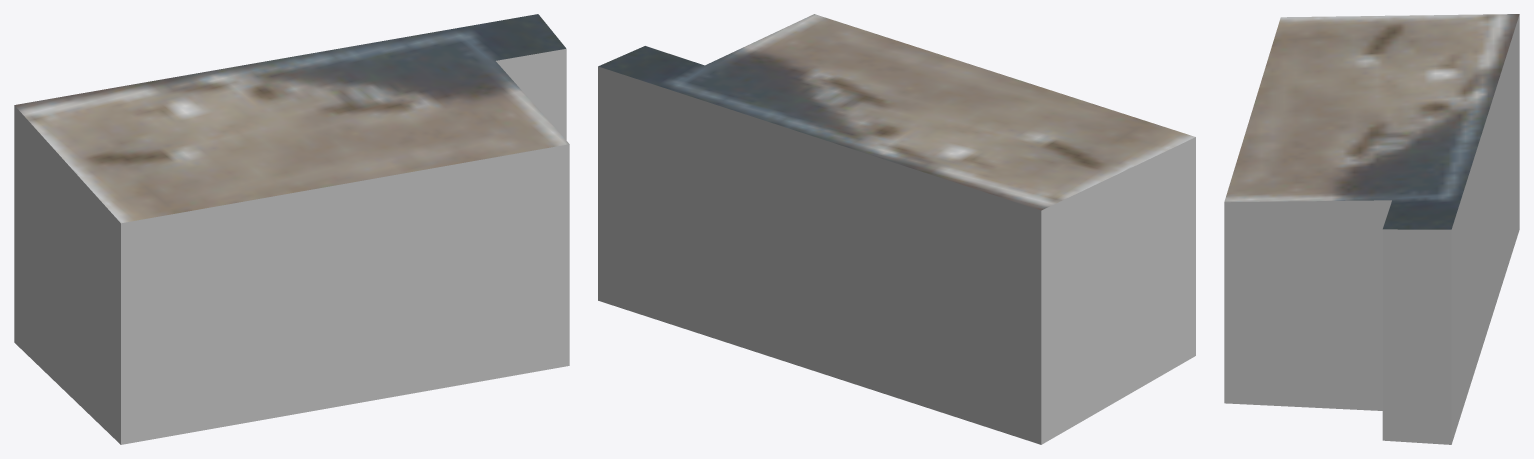
Rendered from DEBW_0010007Tx4F.gltf.
The picture shows the model from 3 angles, left to right: view 1: azimuth 30°, elevation 25°; view 2: azimuth 150°, elevation 25°; view 3: azimuth 270°, elevation 25°; orthographic projection. The views are drawn at different scales.
Parts seen in each view (by area): view 1: Z_UP; view 2: Z_UP; view 3: Z_UP.
Part boxes in pixels (left/top/right/bottom): Z_UP: left=14, top=14, right=569, bottom=444; Z_UP: left=598, top=14, right=1195, bottom=444; Z_UP: left=1224, top=14, right=1519, bottom=444.
Size of the model in its own units: 18.42 by 8.17 by 10.15.
2 materials, 1 textured.
